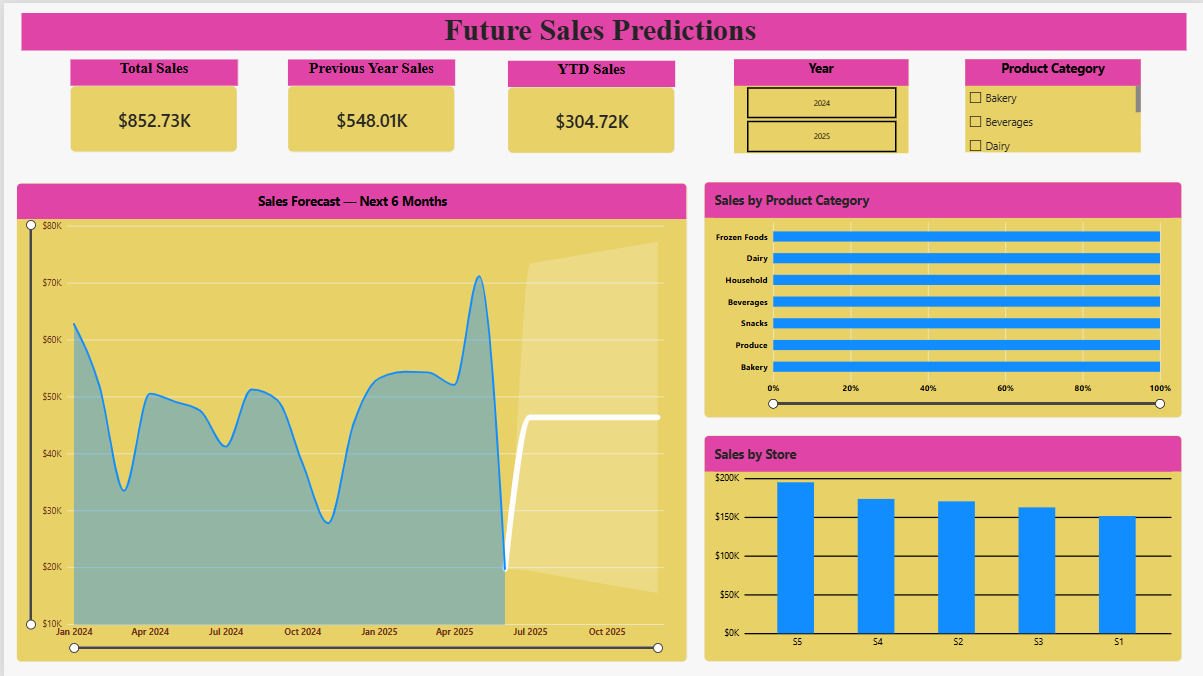

This screenshot's page, from the dashboard's own definition file:
{"tool":"powerbi","page":{"name":"Future Sales Predictions ","canvas":[1920,1080],"ordinal":5},"visuals":[{"type":"textbox","box":[28,16,1864,60],"z":0},{"type":"lineChart","title":"Sales Forecast — Next 6 Months","fields":{"Category":["Date.Month Start"],"Y":["Measures Table.Total Sales"]},"box":[20,288,1073,766.7],"z":1000},{"type":"cardVisual","title":"Total Sales","fields":{"Data":["Measures Table.Total Sales"]},"box":[106.4,89.9,267.8,148.6],"z":2000},{"type":"cardVisual","title":"Previous Year Sales","fields":{"Data":["Measures Table.Previous Year Sales"]},"box":[454.9,89.9,267.8,148.6],"z":3000},{"type":"cardVisual","title":"YTD Sales","fields":{"Data":["Measures Table.YTD Sales"]},"box":[805.2,91.7,267.8,148.6],"z":4000},{"type":"slicer","title":"Year","fields":{"Values":["Date.Year"]},"box":[1168.4,89.9,278.8,150.4],"z":5000},{"type":"slicer","title":"Product Category","fields":{"Values":["Product.Product_Category"]},"box":[1537.1,89.9,280.6,148.6],"z":6000},{"type":"hundredPercentStackedBarChart","title":"Sales by Product Category","fields":{"Category":["Product.Product_Category"],"Y":["Measures Table.Total Sales"]},"box":[1120.7,286.1,764.9,377.9],"z":7000},{"type":"clusteredColumnChart","title":"Sales by Store","fields":{"Category":["Store.Store_ID"],"Y":["Measures Table.Total Sales"]},"box":[1120.7,691.5,764.9,361.3],"z":8000}]}

Visuals, with their boxes in screenshot pixels (x1, y1, x2, y2), scaled from the page's 1920x1080 canvas onto the 1203x676 screenshot:
textbox: rect(18, 10, 1185, 48)
"Sales Forecast — Next 6 Months" lineChart: rect(13, 180, 685, 660)
"Total Sales" cardVisual: rect(67, 56, 234, 149)
"Previous Year Sales" cardVisual: rect(285, 56, 453, 149)
"YTD Sales" cardVisual: rect(505, 57, 672, 150)
"Year" slicer: rect(732, 56, 907, 150)
"Product Category" slicer: rect(963, 56, 1139, 149)
"Sales by Product Category" hundredPercentStackedBarChart: rect(702, 179, 1181, 416)
"Sales by Store" clusteredColumnChart: rect(702, 433, 1181, 659)
